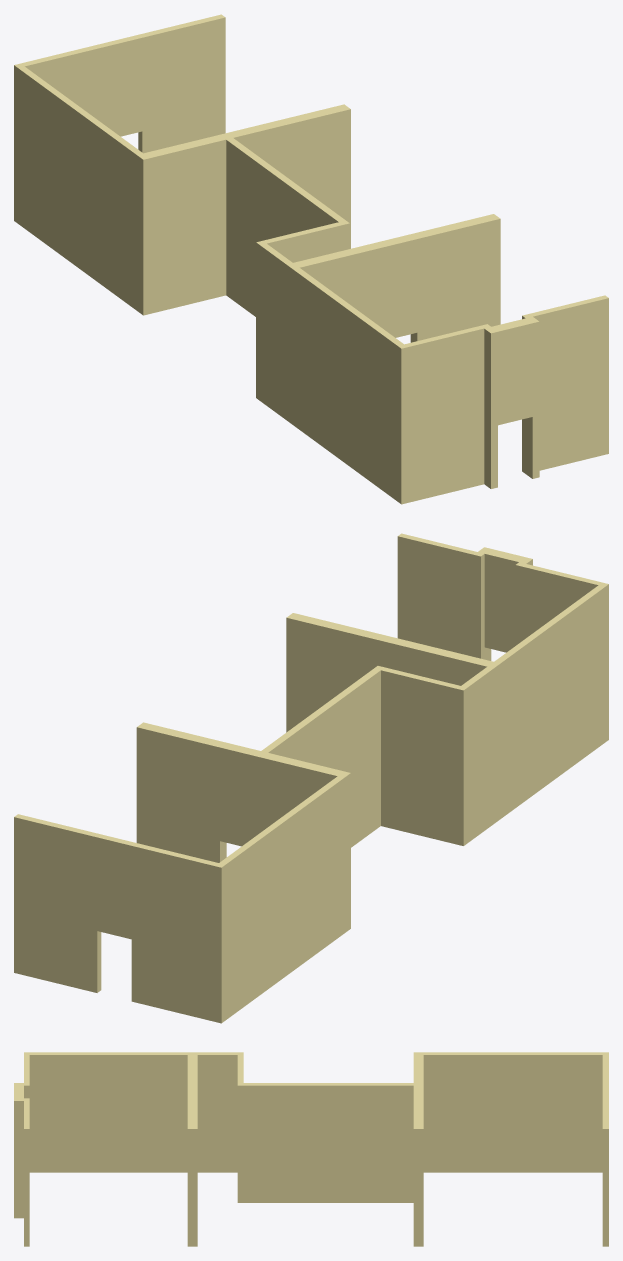
File: SM_Wall.fbx
3 views of the same model, one above another, from view 1: azimuth 30°, elevation 25°; view 2: azimuth 150°, elevation 25°; view 3: azimuth 270°, elevation 25° (orthographic). The views are drawn at different scales.
Parts seen in each view (by area): view 1: Wall; view 2: Wall; view 3: Wall.
Boxes of the visible parts, x1,y1,x2,y2 form: Wall: [14, 14, 608, 504]; Wall: [14, 533, 608, 1023]; Wall: [14, 1052, 608, 1246].
Size of the model in its own units: 11.88 by 8.52 by 39.07.
